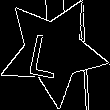L_N: (33, 24, 73, 79)
